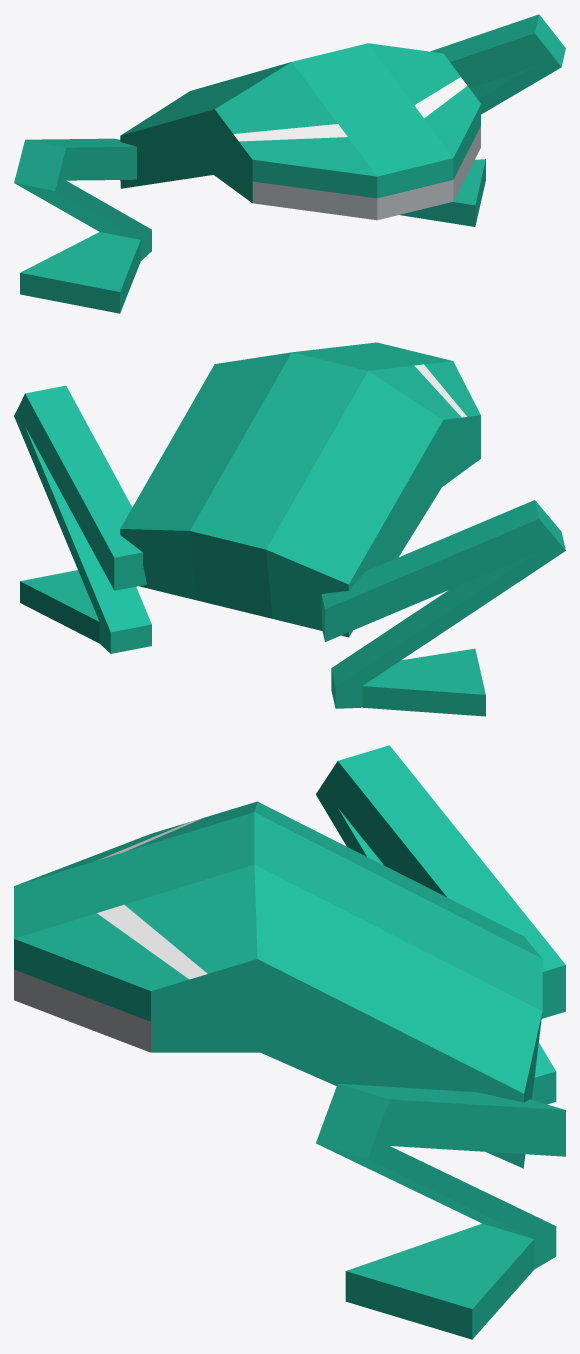
The model's file is frog.fbx.
3 views of the same model, one above another, from view 1: azimuth 30°, elevation 25°; view 2: azimuth 150°, elevation 25°; view 3: azimuth 270°, elevation 25° (orthographic). The views are drawn at different scales.
Visible parts, largest first — view 1: frog; view 2: frog; view 3: frog.
Part boxes in pixels (<box>): frog: <box>14,14,565,313</box>; frog: <box>14,342,565,716</box>; frog: <box>14,745,565,1339</box>.
Size of the model in its own units: 99.24 by 41.5 by 60.89.
